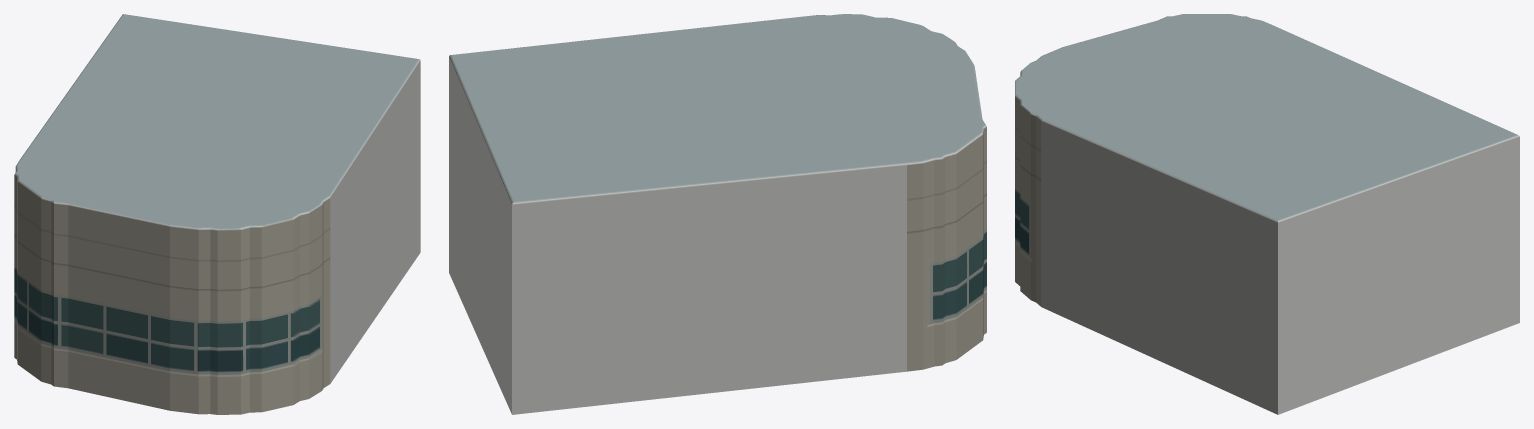
The model's file is intact.glb.
3 renders of one model, left to right at view 1: azimuth 30°, elevation 25°; view 2: azimuth 150°, elevation 25°; view 3: azimuth 270°, elevation 25°, orthographic. The views are drawn at different scales.
Parts seen in each view (by area): view 1: SM_northgate_Intact_00; view 2: SM_northgate_Intact_00; view 3: SM_northgate_Intact_00.
Part boxes in pixels (x1,y1,x2,y2): SM_northgate_Intact_00: [14, 14, 420, 414]; SM_northgate_Intact_00: [449, 14, 986, 414]; SM_northgate_Intact_00: [1015, 14, 1519, 414].
Bounding box in the file's own units: 2.14 × 0.932 × 2.2.
Materials: 3 (1 with a texture image).
